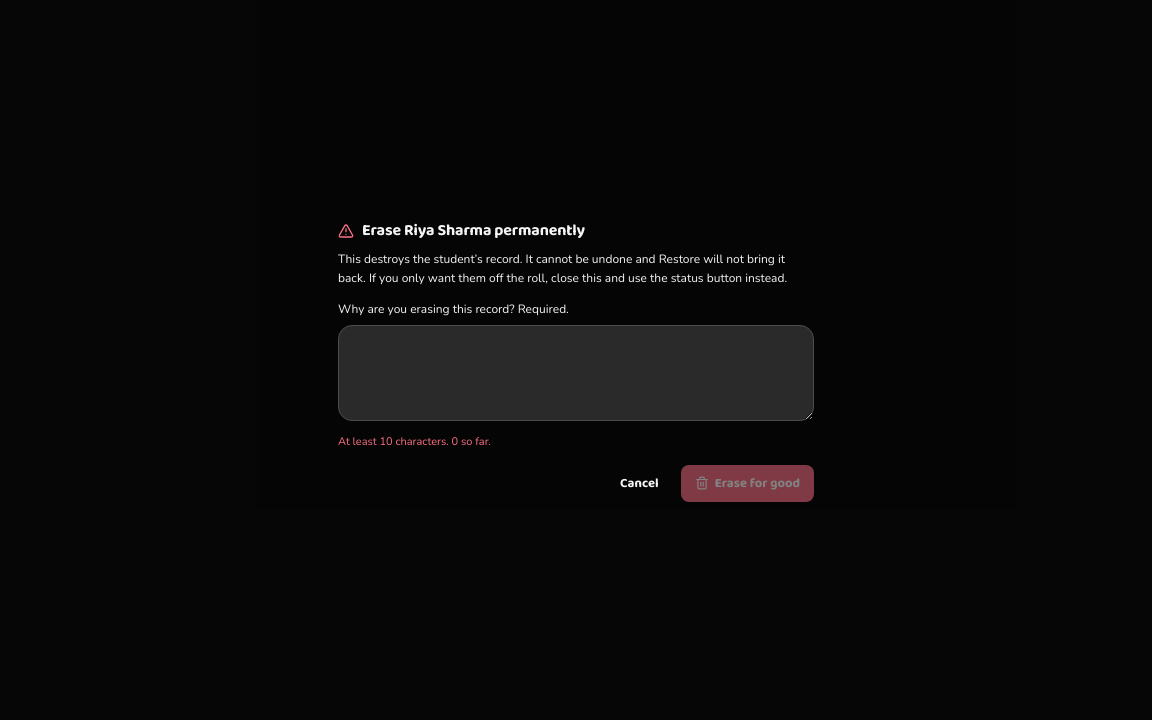
it: erasing a record for good › counts what has been typed so far, rather than just refusing
This screenshot has width=1152, height=720.
Step 1. Type "abc" into the text box with test id "erase-reason" → coordinates (576, 373), box [338,325,814,421]
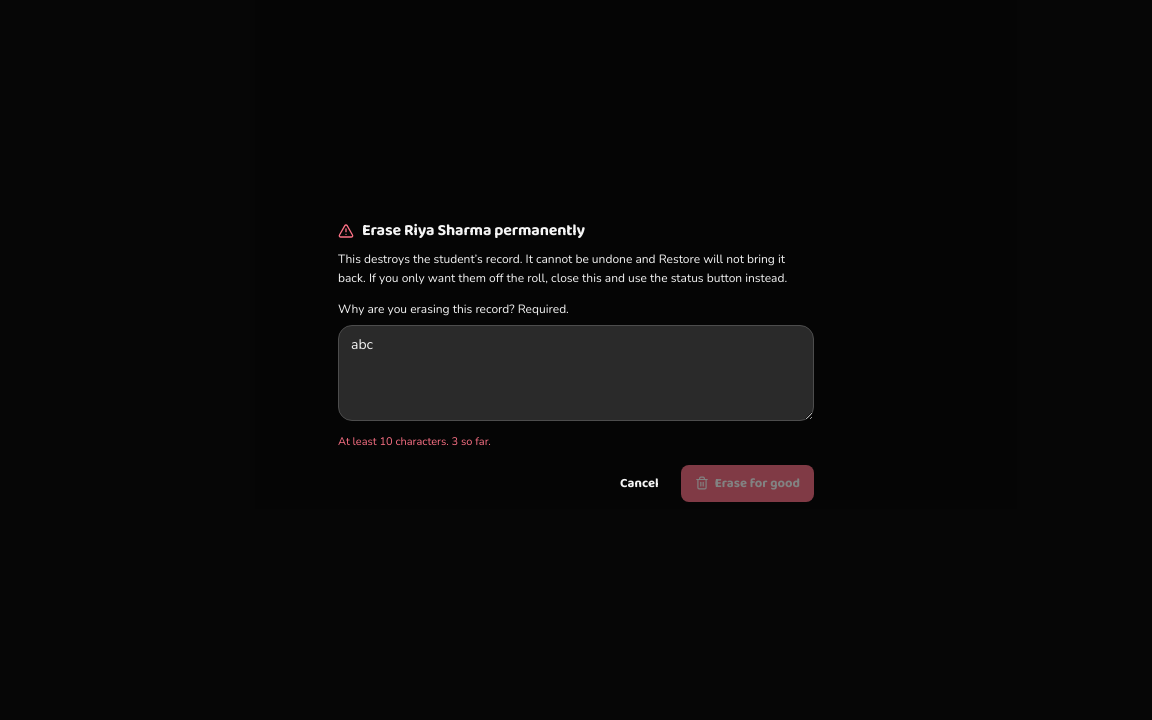
Check: the text with test id "erase-reason-hint" shows "3 so far", box [338,434,491,449]
